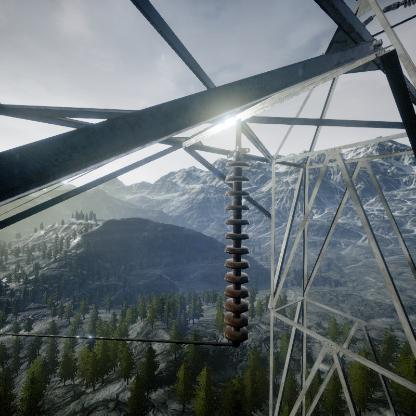insulator: (223, 153, 253, 343)
